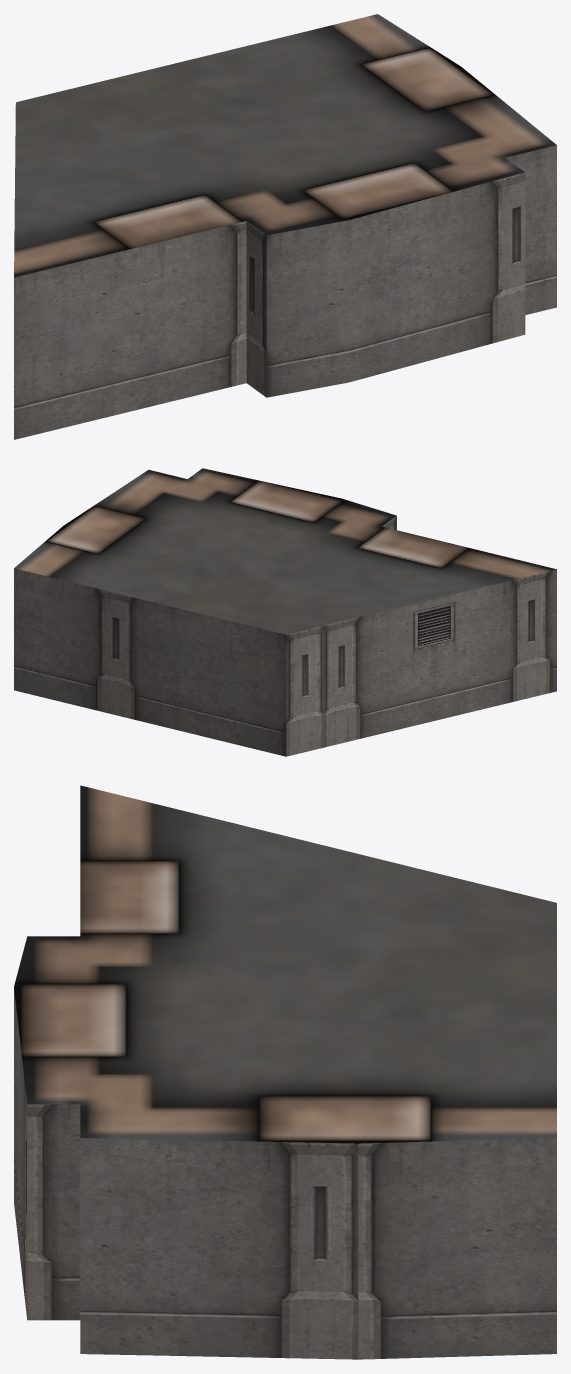
File: building_hard_33.glb
3 views of the same model, one above another, from view 1: azimuth 30°, elevation 25°; view 2: azimuth 150°, elevation 25°; view 3: azimuth 270°, elevation 25° (orthographic). The views are drawn at different scales.
Parts seen in each view (by area): view 1: buildings/saxarba/building_hard/building_hard_33; view 2: buildings/saxarba/building_hard/building_hard_33; view 3: buildings/saxarba/building_hard/building_hard_33.
Boxes of the visible parts, <box> form: buildings/saxarba/building_hard/building_hard_33: <box>14,14,556,439</box>; buildings/saxarba/building_hard/building_hard_33: <box>14,468,556,756</box>; buildings/saxarba/building_hard/building_hard_33: <box>14,785,556,1359</box>.
Bounding box in the file's own units: 64 × 18 × 41.
